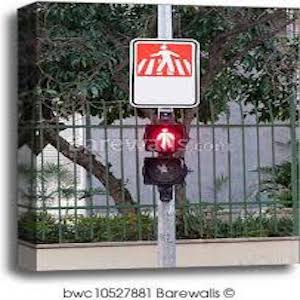red: (154, 122, 176, 155)
